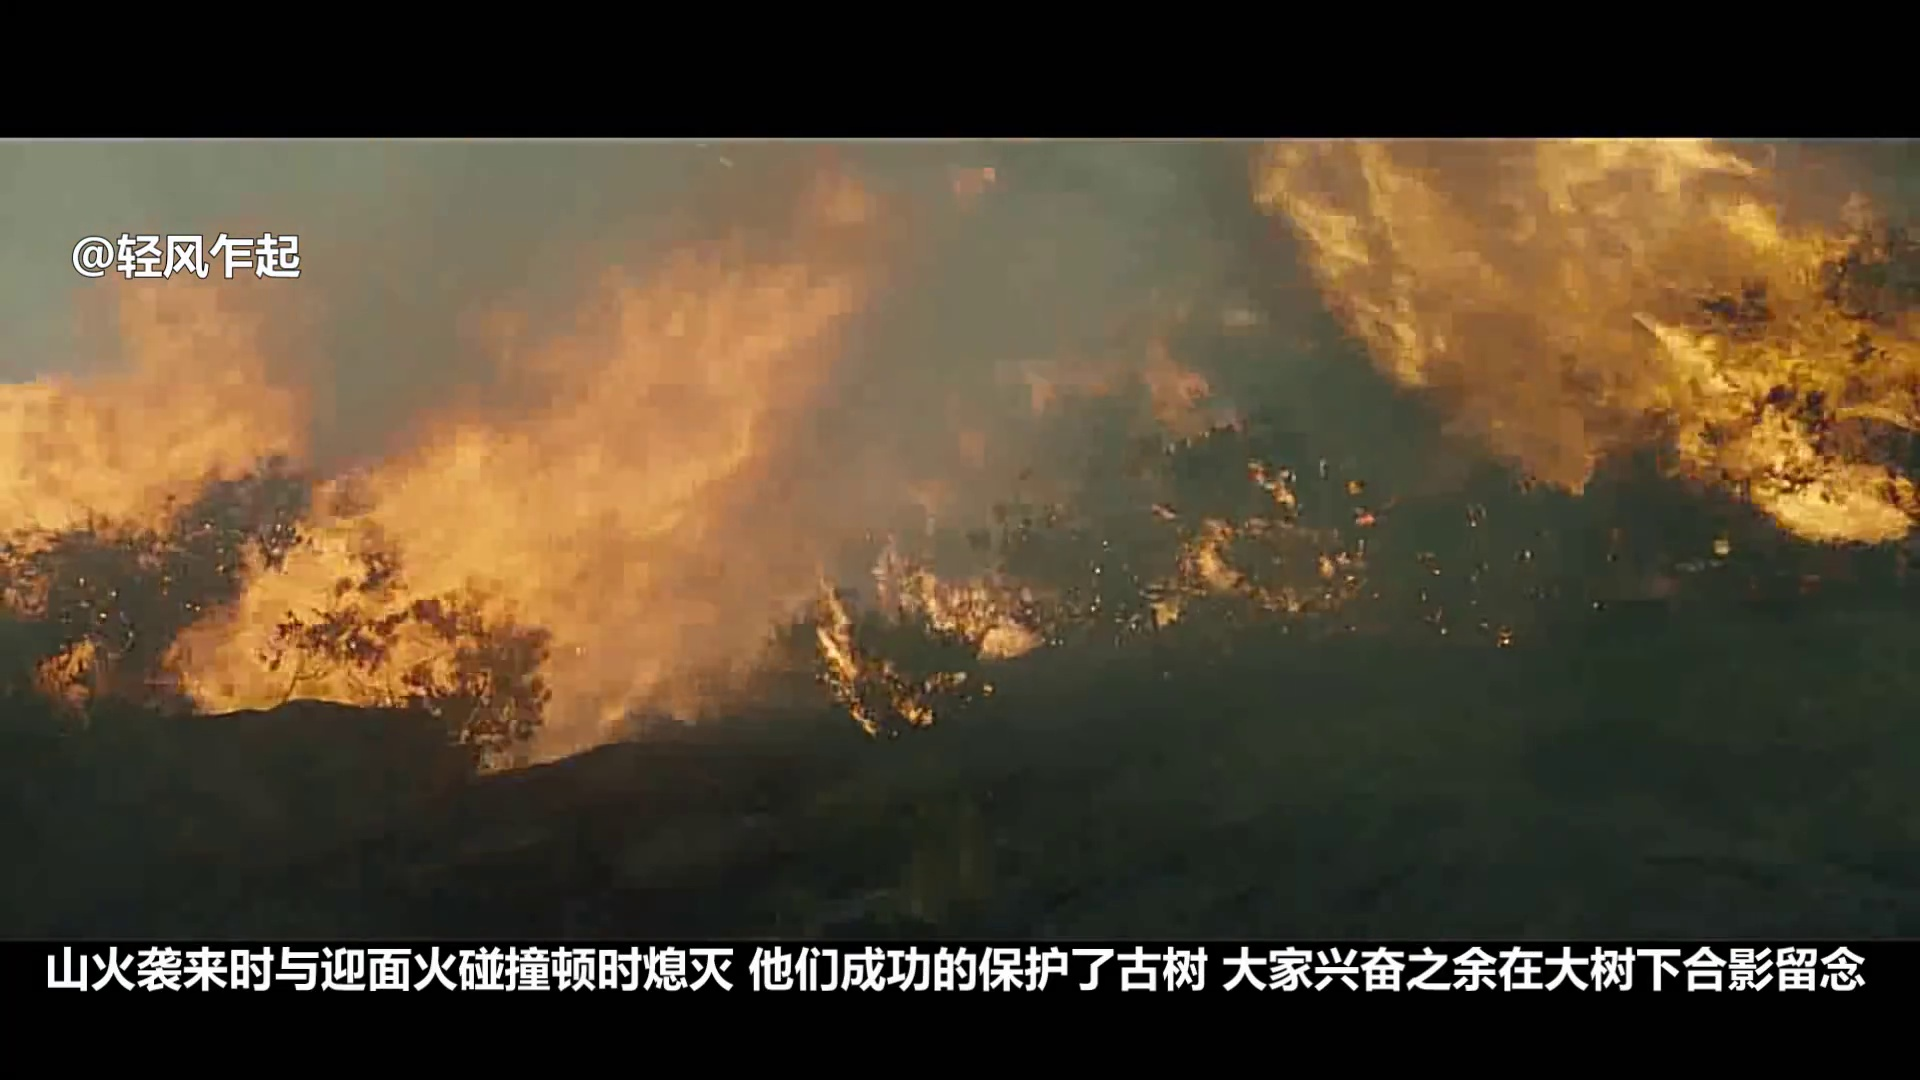fire: (1273, 136, 1919, 549), (4, 355, 244, 531), (818, 579, 911, 736), (909, 566, 1038, 661), (1189, 545, 1226, 595)
